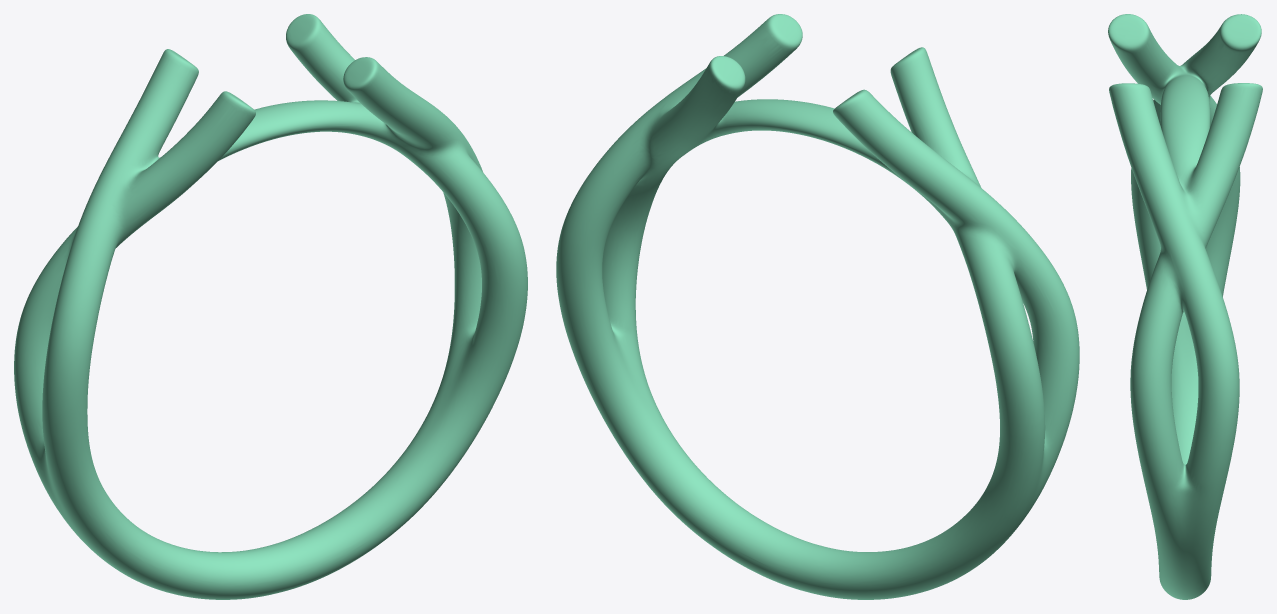
The picture shows the model from 3 angles, left to right: view 1: azimuth 30°, elevation 25°; view 2: azimuth 150°, elevation 25°; view 3: azimuth 270°, elevation 25°; orthographic projection. The views are drawn at different scales.
Visible parts, largest first — view 1: Metal02; view 2: Metal02; view 3: Metal02.
Boxes of the visible parts, x1,y1,x2,y2 form: Metal02: (14,14,527,599); Metal02: (556,14,1079,599); Metal02: (1108,14,1262,599).
Bounding box in the file's own units: 21.15 × 22.41 × 5.98.
